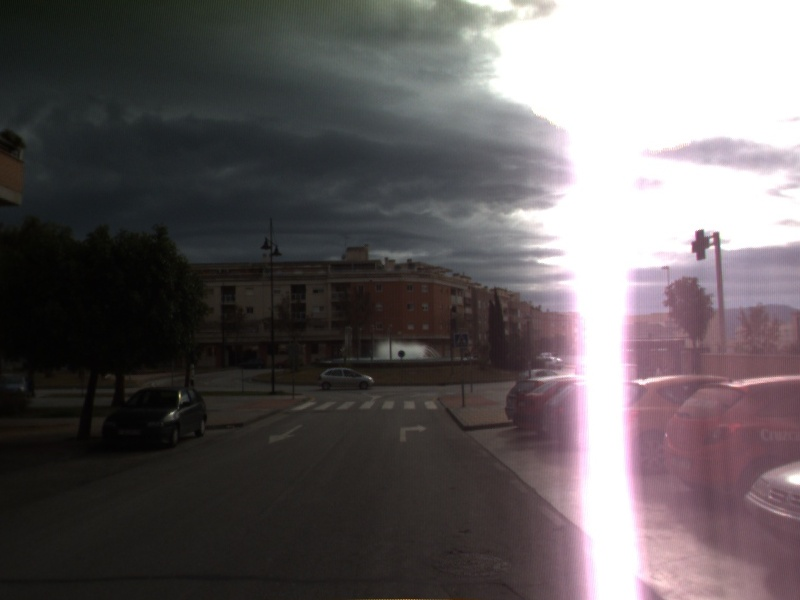RIGHT: (397, 422, 430, 444)
